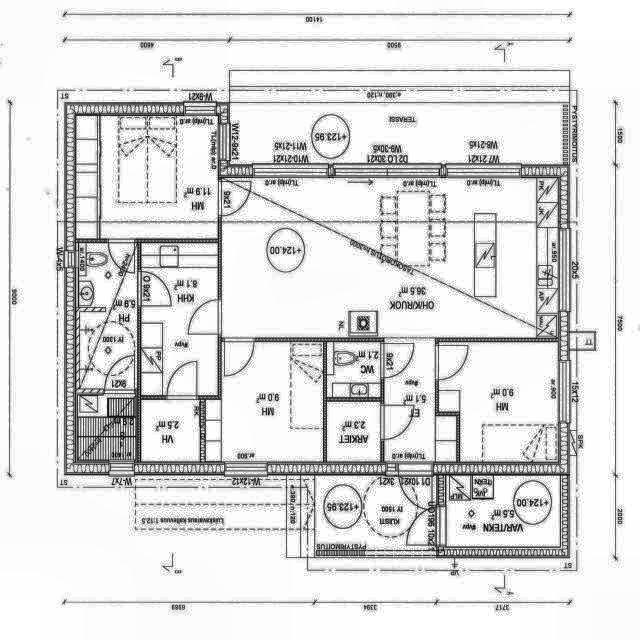room: (76, 116, 218, 239), (439, 341, 558, 462), (205, 341, 323, 462), (141, 243, 218, 396), (76, 243, 138, 389), (446, 476, 560, 547), (76, 393, 137, 462), (141, 400, 200, 462), (327, 401, 380, 462), (327, 342, 381, 397)
